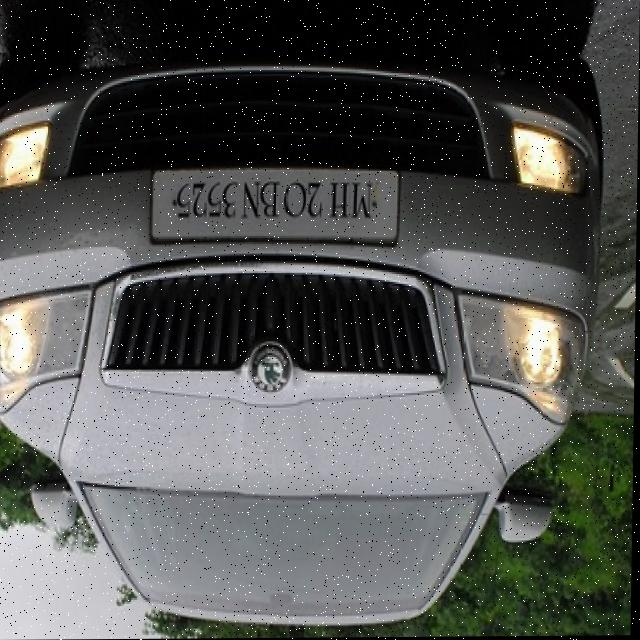plate: (151, 165, 398, 247)
